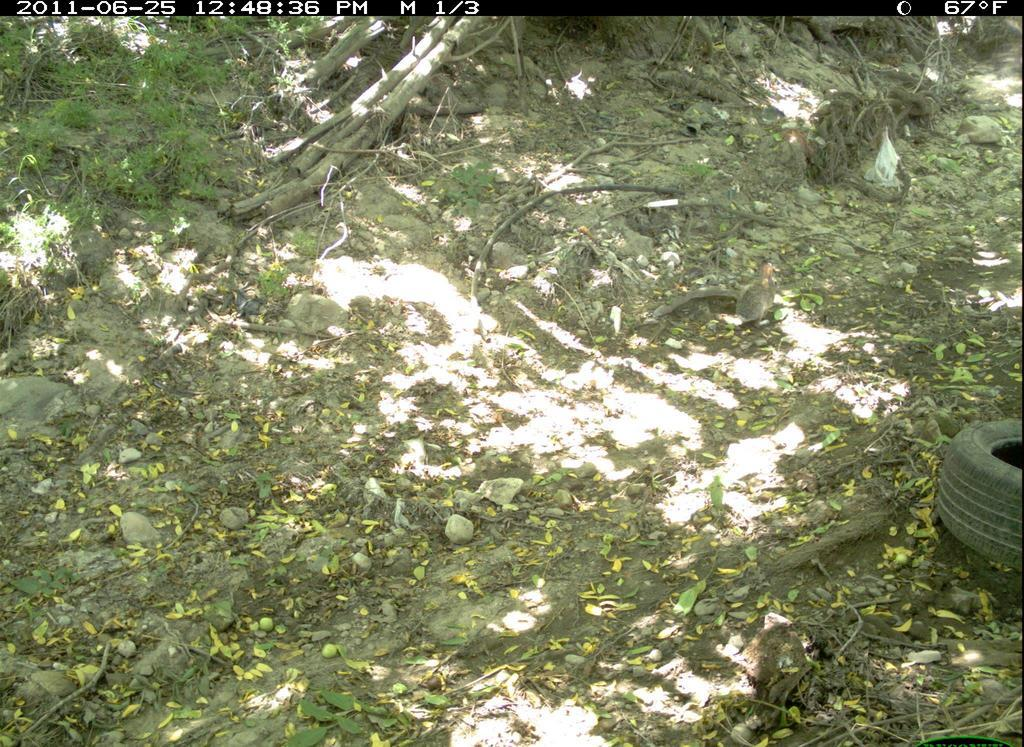rabbit: (730, 264, 793, 344)
